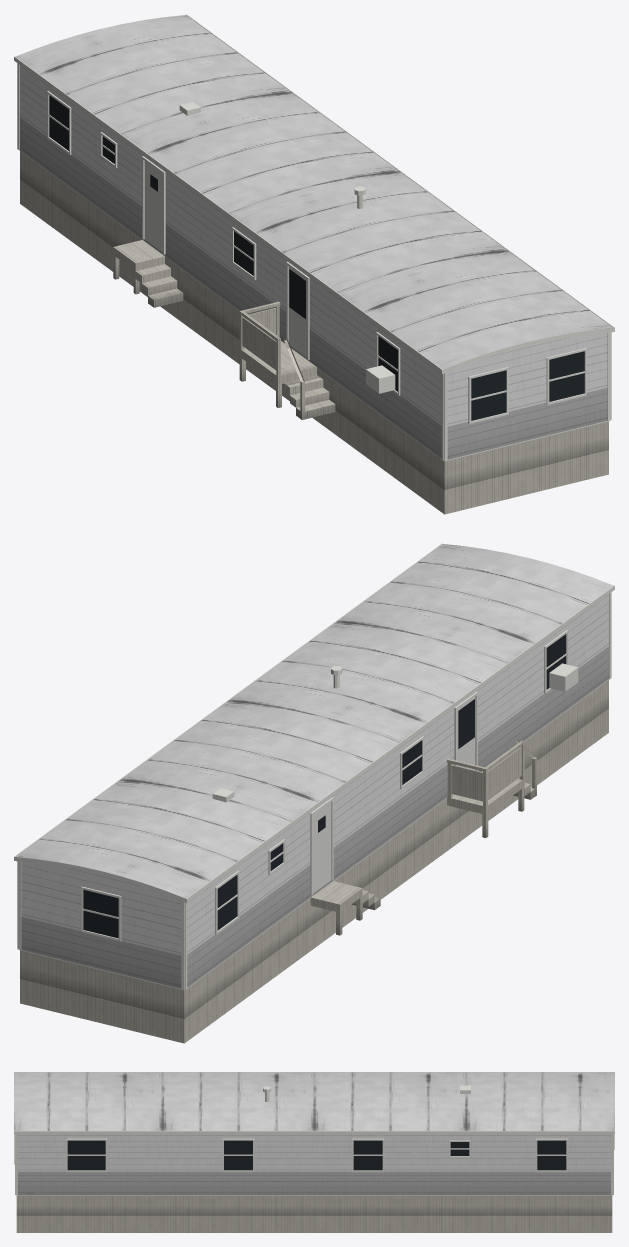
File: mobile-single-a.glb
3 views of the same model, one above another, from view 1: azimuth 30°, elevation 25°; view 2: azimuth 150°, elevation 25°; view 3: azimuth 270°, elevation 25° (orthographic). The views are drawn at different scales.
Parts seen in each view (by area): view 1: Mobile_single_a; view 2: Mobile_single_a; view 3: Mobile_single_a.
Boxes of the visible parts, x1,y1,x2,y2 form: Mobile_single_a: [14, 14, 614, 514]; Mobile_single_a: [14, 543, 614, 1043]; Mobile_single_a: [14, 1072, 614, 1232].
Size of the model in its own units: 5.38 by 4.22 by 19.
Materials: 6 (3 with a texture image).
